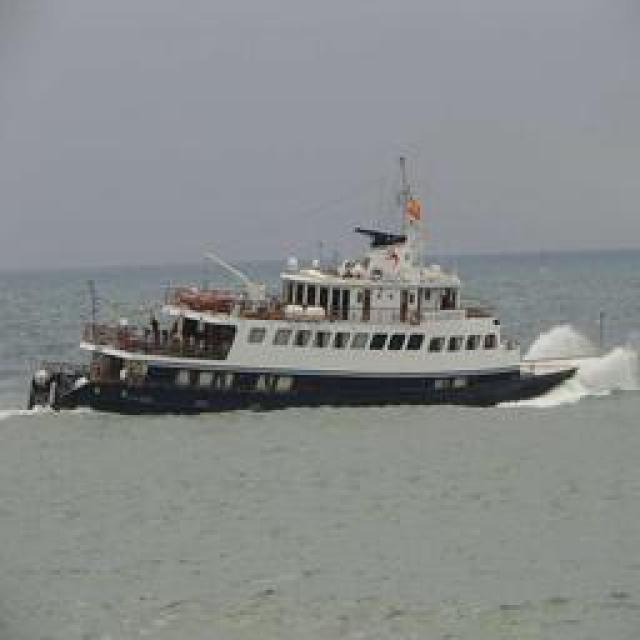Ship: (56, 176, 596, 411)
